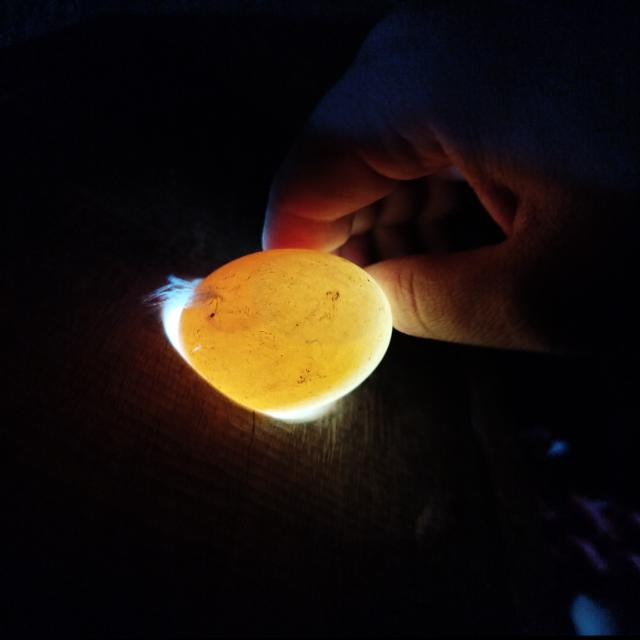Camara de Ar: (247, 249, 391, 345)
